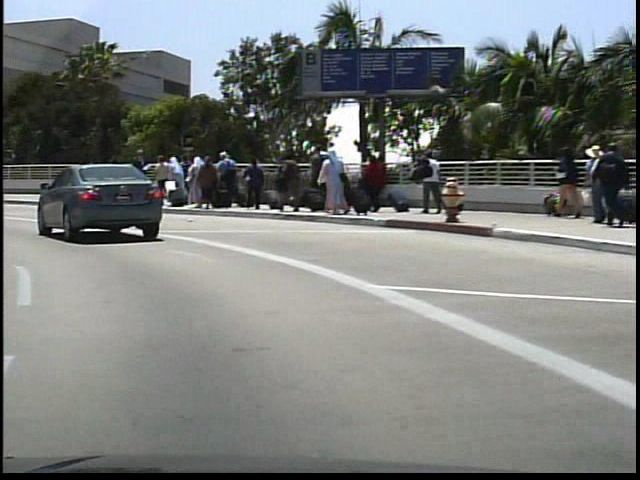person: (589, 140, 627, 231), (414, 146, 442, 217), (81, 151, 111, 212), (125, 146, 152, 209), (149, 152, 168, 209), (91, 155, 111, 196)
